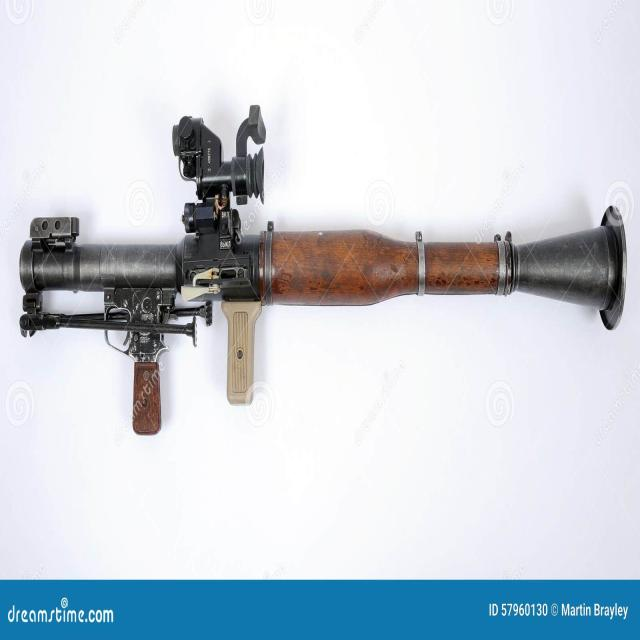Gun: (2, 60, 640, 468)
